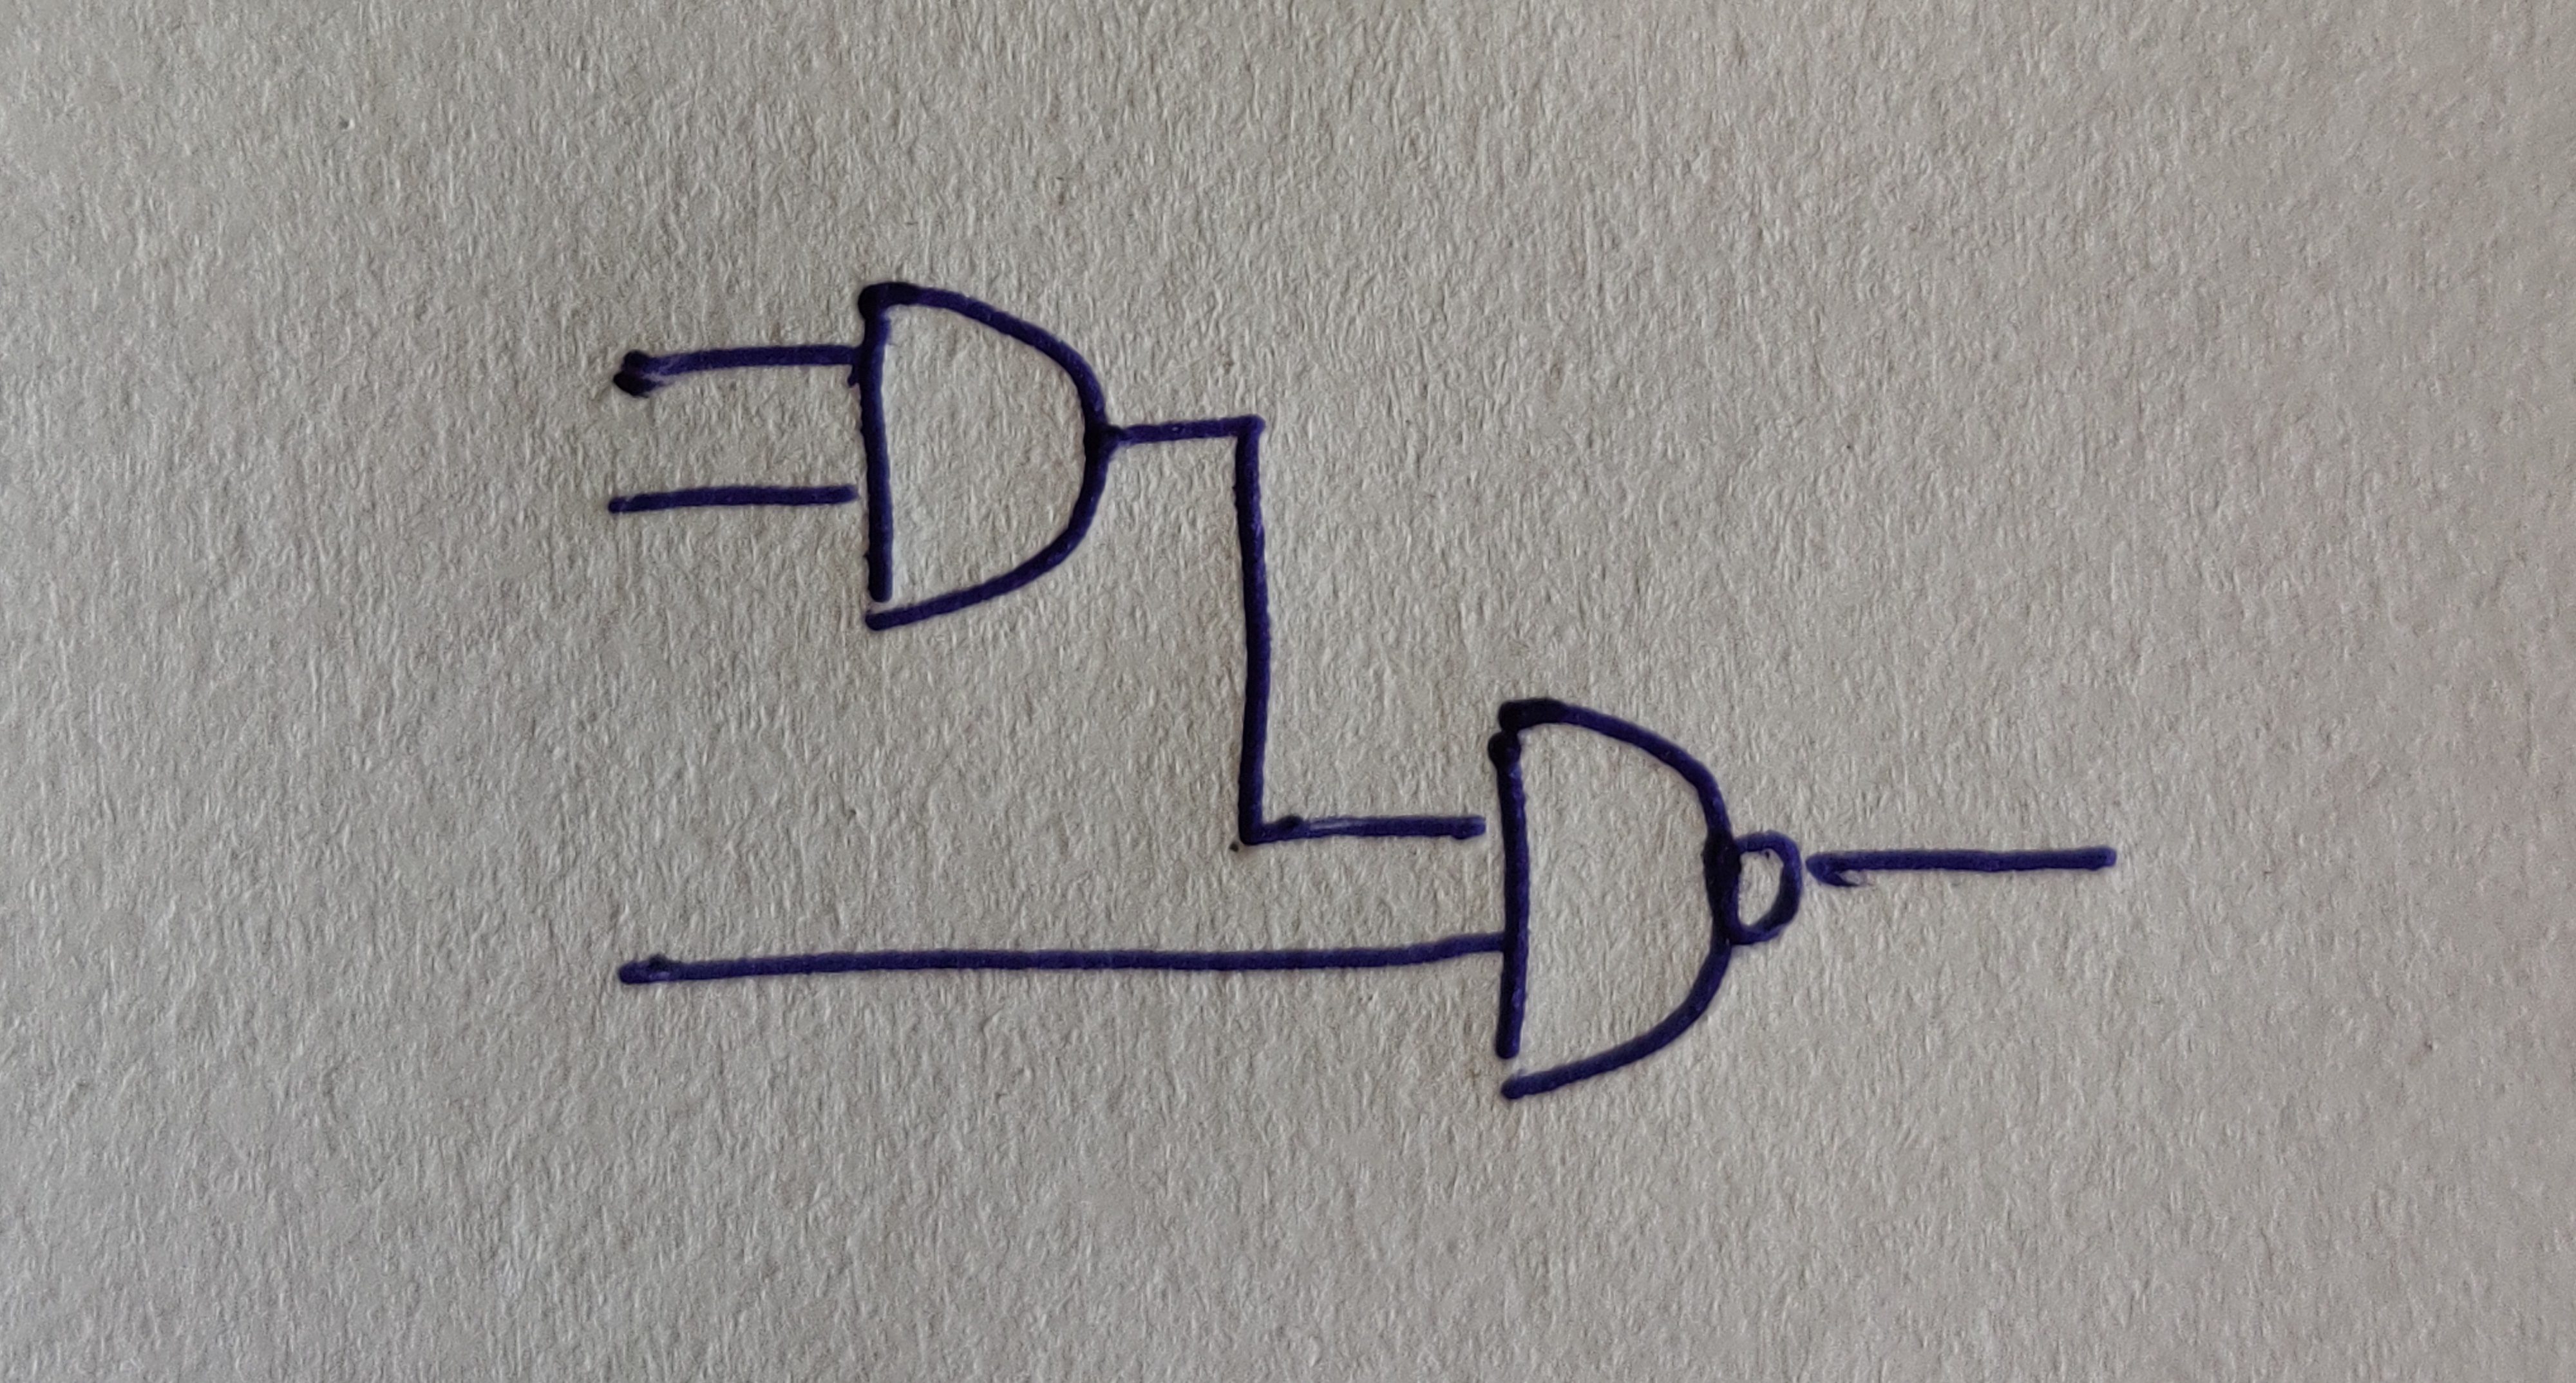and: (1489, 695, 1734, 1100), (852, 283, 1116, 628)
not: (1731, 831, 1803, 947)
